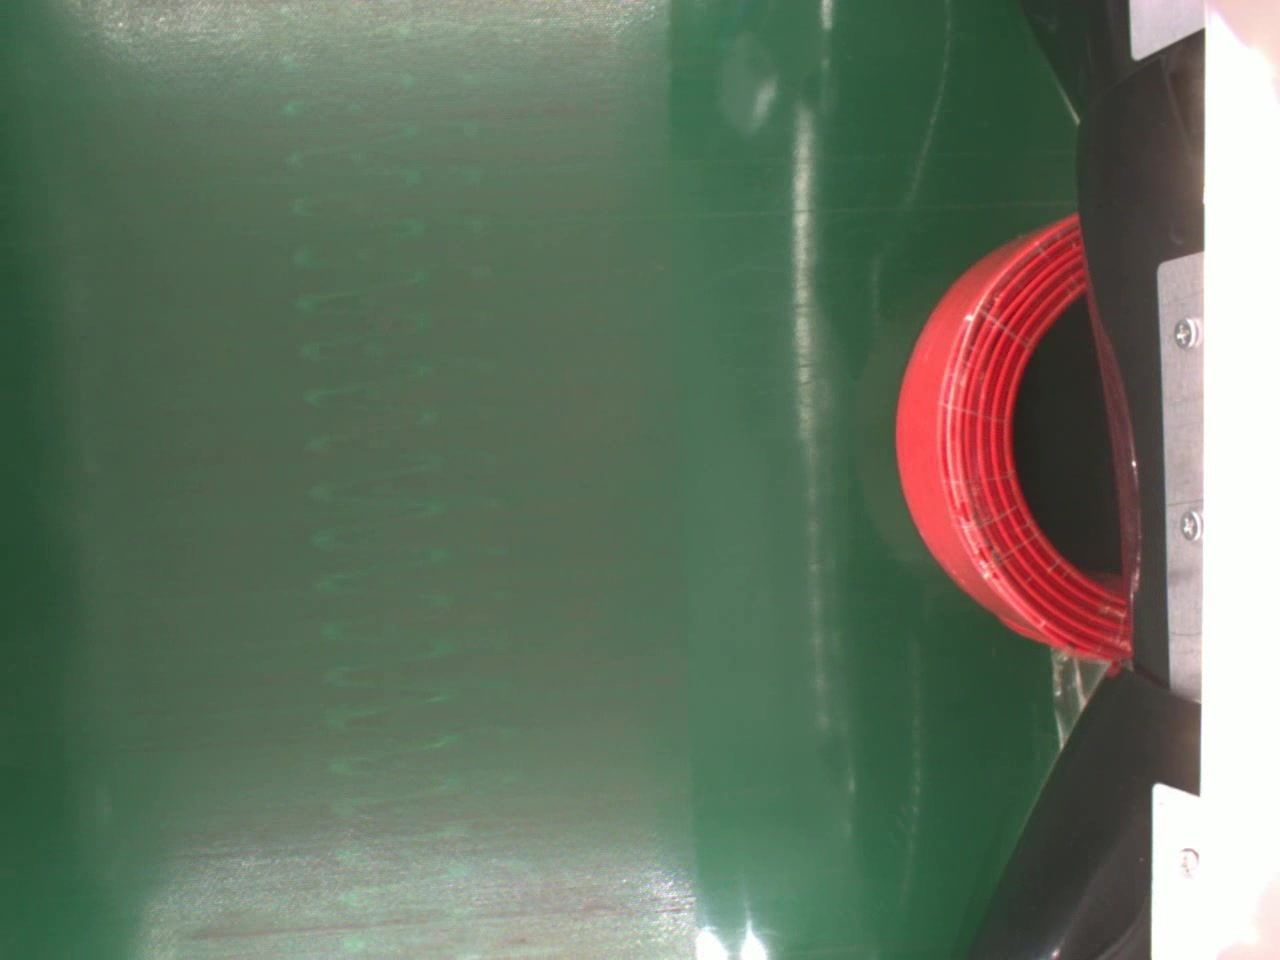red: (895, 210, 1130, 663)
